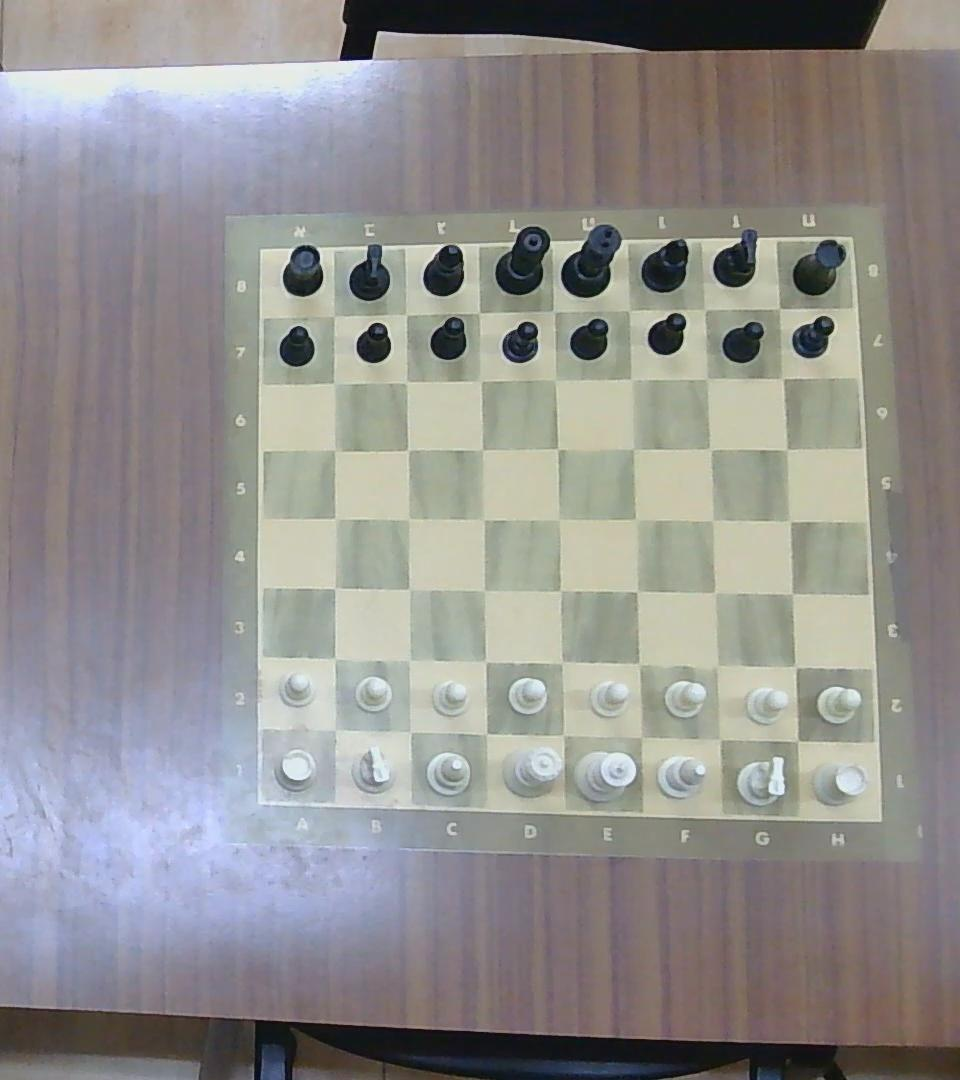xcorner: (758, 285, 798, 329), (768, 500, 812, 538), (306, 301, 356, 331), (459, 292, 499, 329), (533, 292, 574, 328), (692, 291, 728, 329), (540, 363, 577, 398), (315, 366, 353, 400), (772, 576, 810, 610), (700, 653, 742, 683), (318, 499, 352, 536), (388, 364, 426, 397), (316, 646, 357, 675), (612, 292, 648, 325), (393, 573, 429, 606), (462, 722, 504, 750), (540, 720, 582, 748), (318, 711, 352, 745), (466, 646, 503, 677), (460, 362, 495, 394), (762, 362, 802, 390), (538, 651, 584, 675), (540, 428, 570, 464), (318, 435, 351, 467), (317, 571, 349, 604), (394, 714, 425, 747), (462, 503, 497, 532), (777, 654, 816, 680), (700, 726, 739, 752), (692, 504, 725, 534), (624, 648, 656, 678), (699, 578, 733, 606), (620, 507, 655, 534), (393, 300, 423, 330), (782, 726, 811, 757), (621, 364, 650, 394), (613, 434, 645, 461), (620, 578, 653, 604), (393, 648, 423, 676), (766, 437, 802, 460), (546, 505, 572, 536), (689, 366, 721, 391), (544, 581, 576, 605), (692, 435, 726, 457), (463, 436, 494, 460), (626, 726, 656, 750), (392, 436, 419, 462), (396, 505, 422, 532), (476, 581, 499, 602)
